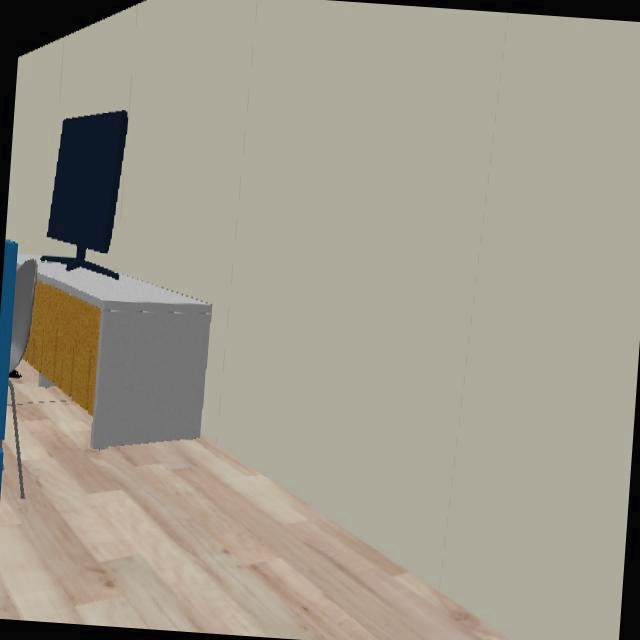chair: (7, 261, 45, 376)
monitor: (45, 111, 129, 267)
table: (34, 259, 211, 447)
